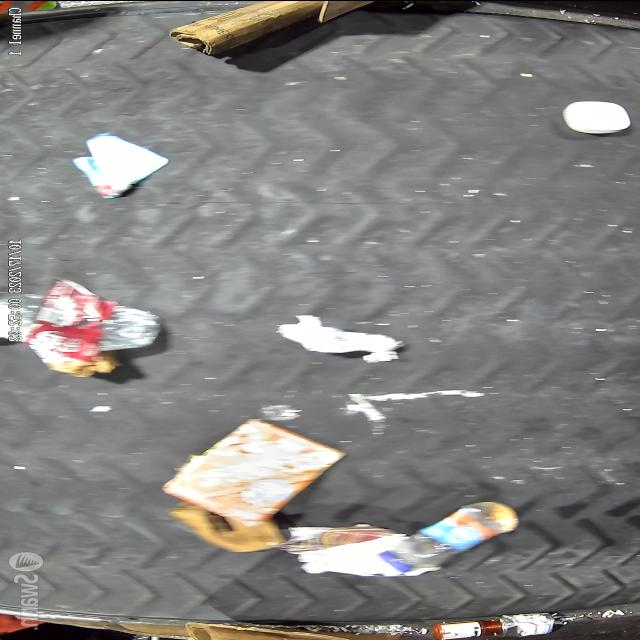can: (0, 294, 158, 350), (494, 612, 554, 637)
plastic_bottle: (376, 500, 518, 571)
